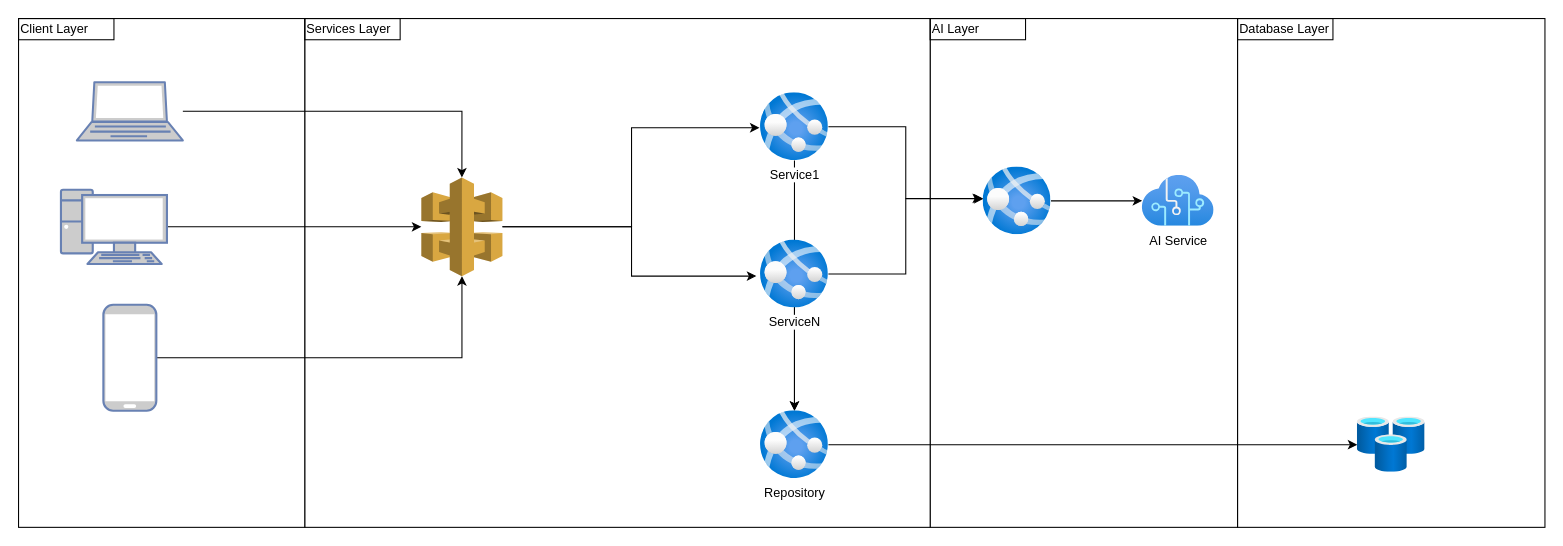
Image size: 1563x546. Some labels were removed from this diagram. The centre of each missing label's shape, as x and y in pixels:
"API Gateway" goes at pixel 461 226.
"Filter Service" goes at pixel 1016 200.
"NoSQL DB" goes at pixel 1391 444.
